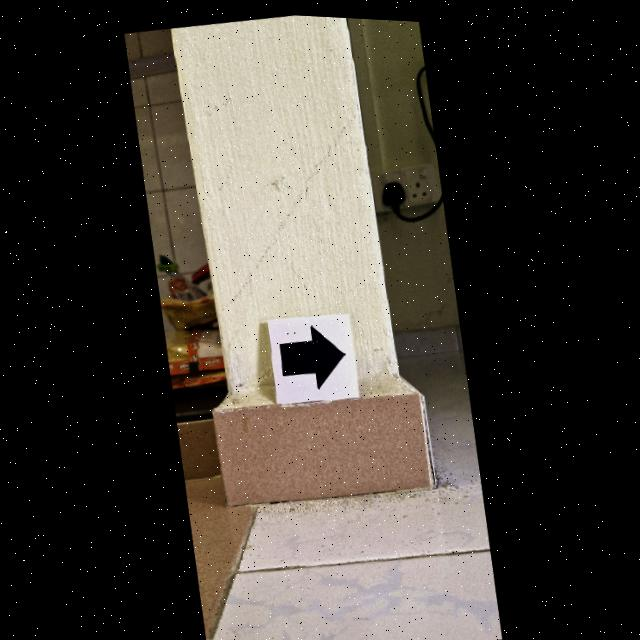RIGHT: (281, 323, 346, 385)
